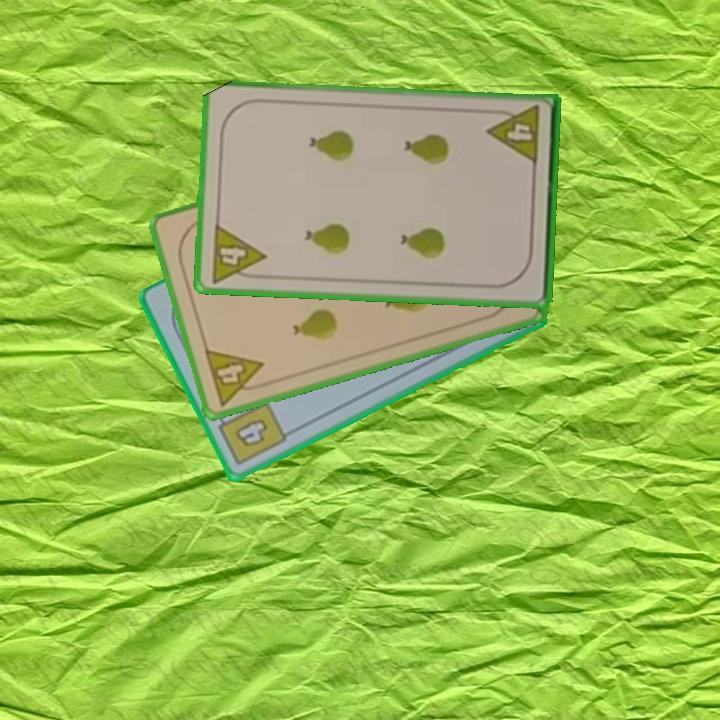4b: (212, 398, 290, 469)
4p: (200, 345, 272, 409), (207, 220, 268, 286), (485, 102, 543, 168)
